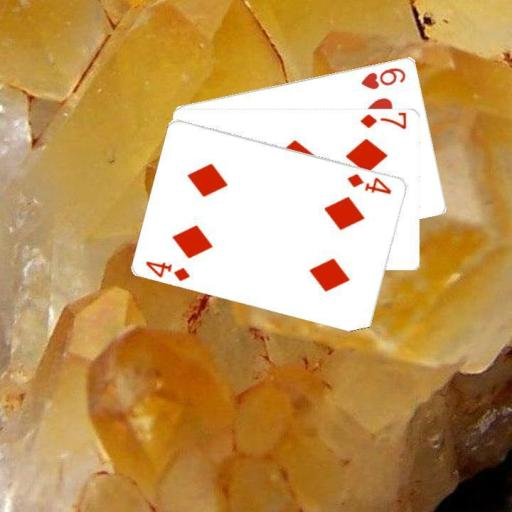card-corner: (358, 64, 408, 90), (344, 170, 393, 196), (143, 257, 192, 283), (357, 111, 408, 130)
